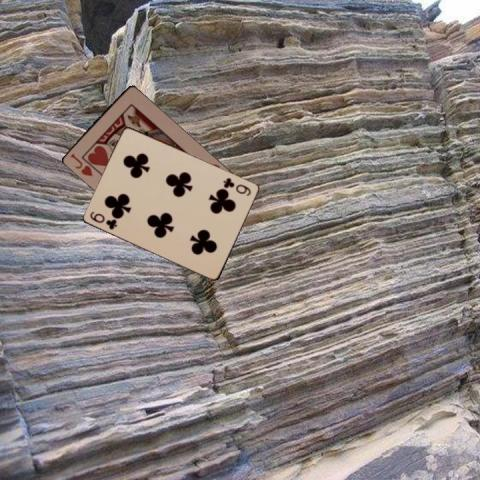6c: (87, 208, 119, 231), (221, 175, 253, 197)
Jh: (67, 150, 94, 178)
